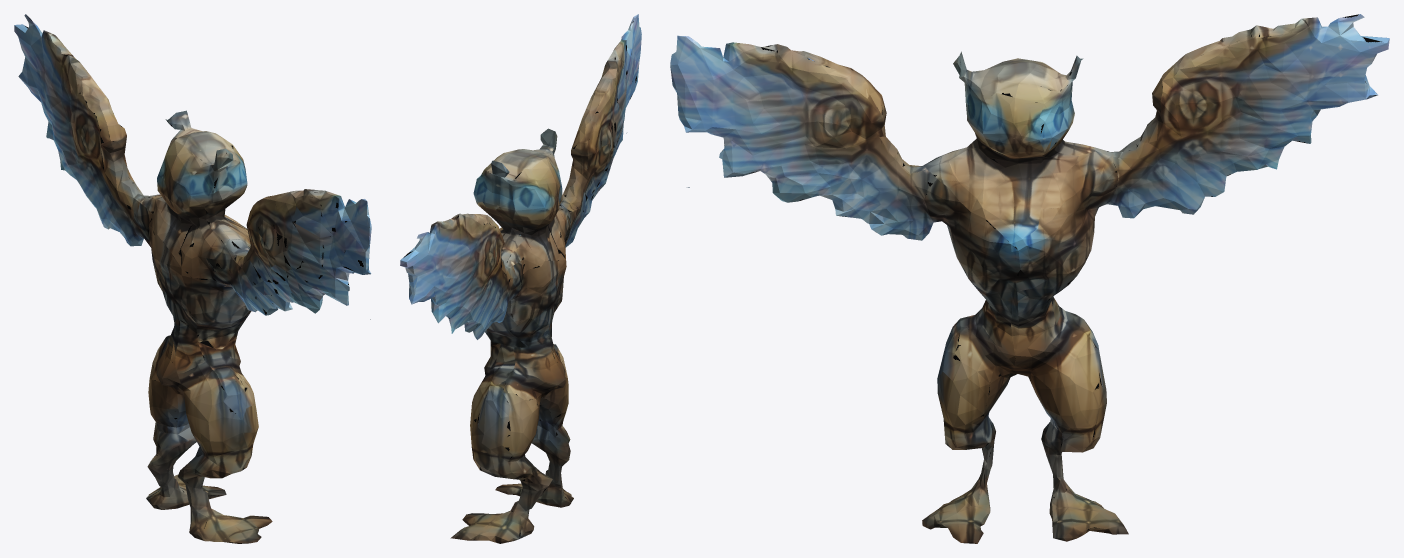
File: minion_air_1.glb
The picture shows the model from 3 angles, left to right: view 1: azimuth 30°, elevation 25°; view 2: azimuth 150°, elevation 25°; view 3: azimuth 270°, elevation 25°; orthographic projection. The views are drawn at different scales.
Parts seen in each view (by area): view 1: zzzz3; view 2: zzzz3; view 3: zzzz3.
Boxes of the visible parts, x1,y1,x2,y2 form: zzzz3: (14, 14, 371, 543); zzzz3: (400, 14, 641, 543); zzzz3: (670, 14, 1389, 543).
Size of the model in its own units: 0.3955 by 1.49 by 1.95.
1 material, 1 textured.
